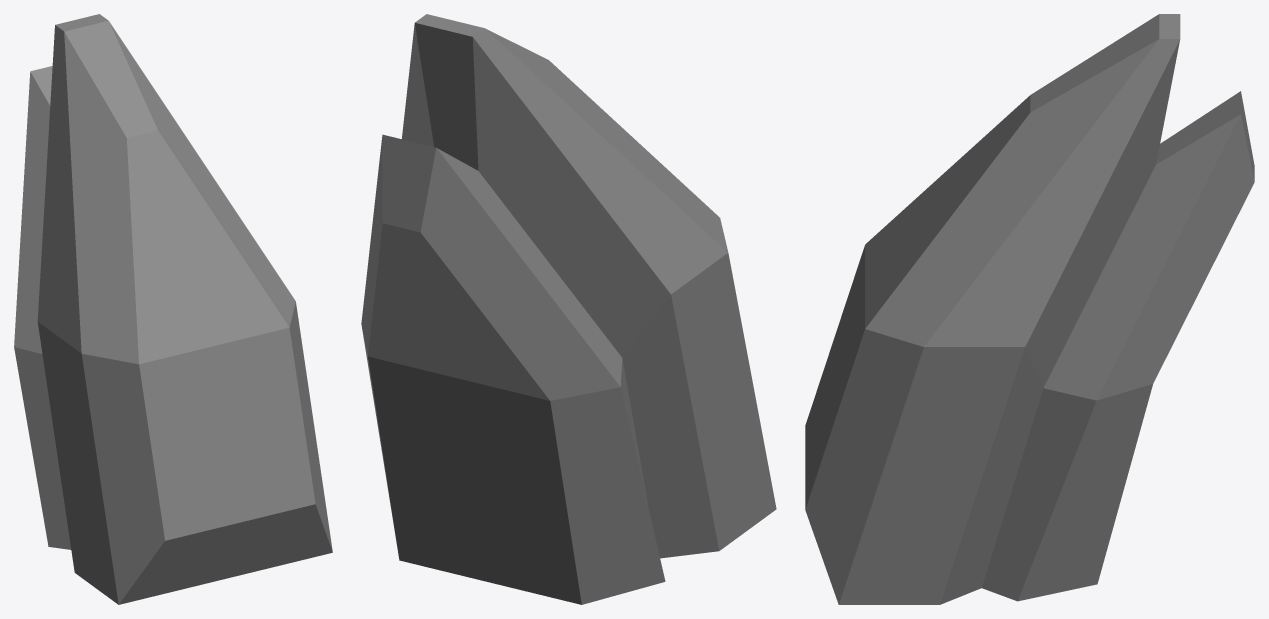
File: volcano rock1.obj
3 renders of one model, left to right at view 1: azimuth 30°, elevation 25°; view 2: azimuth 150°, elevation 25°; view 3: azimuth 270°, elevation 25°, orthographic. The views are drawn at different scales.
Parts seen in each view (by area): view 1: Cube_Cube.001; view 2: Cube_Cube.001; view 3: Cube_Cube.001.
Part boxes in pixels (x1,y1,x2,y2): Cube_Cube.001: [14, 14, 332, 604]; Cube_Cube.001: [361, 14, 776, 604]; Cube_Cube.001: [805, 14, 1254, 604].
Size of the model in its own units: 2 by 4.03 by 3.16.
Materials: 1 (1 with a texture image).
